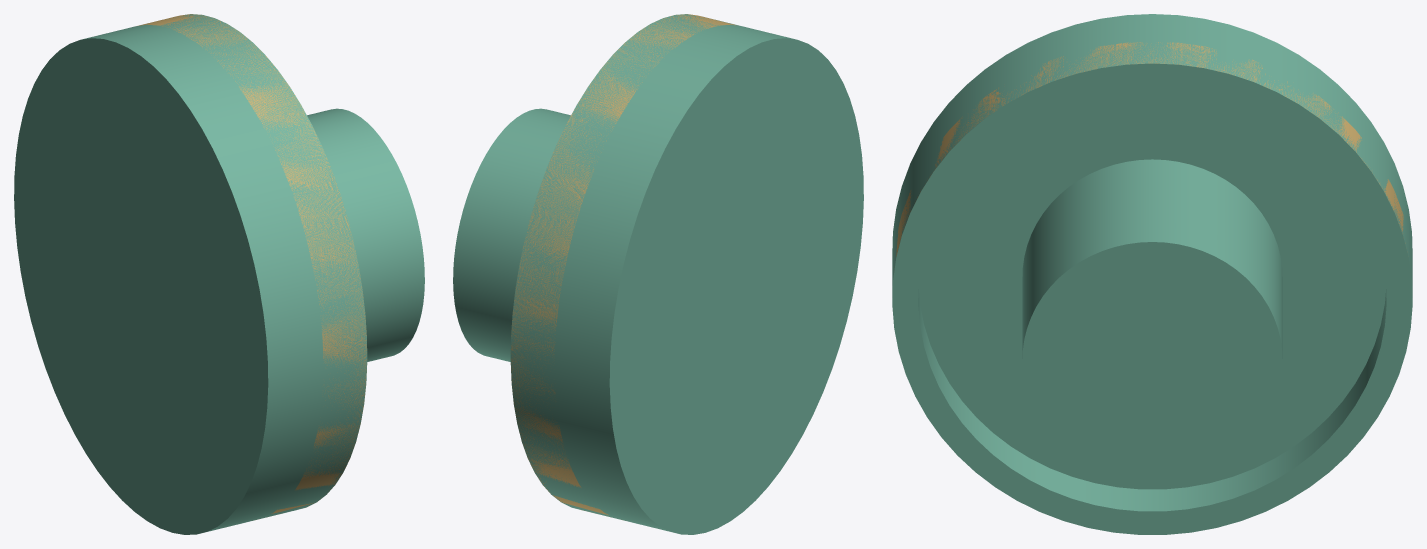
Rendered from step_08.glb.
3 views of the same model, side by side, from view 1: azimuth 30°, elevation 25°; view 2: azimuth 150°, elevation 25°; view 3: azimuth 270°, elevation 25° (orthographic). The views are drawn at different scales.
Parts seen in each view (by area): view 1: part__flange B (recess), added__flange B (recess); view 2: part__flange B (recess), added__flange B (recess); view 3: part__flange B (recess), added__flange B (recess).
Boxes of the visible parts, box(x1,y1,x2,y2) form: part__flange B (recess): box(14, 14, 424, 534); added__flange B (recess): box(138, 14, 367, 513); part__flange B (recess): box(453, 14, 863, 534); added__flange B (recess): box(510, 14, 735, 515); part__flange B (recess): box(892, 14, 1412, 534); added__flange B (recess): box(896, 42, 1405, 256).
Size of the model in its own units: 80 by 160 by 160.
